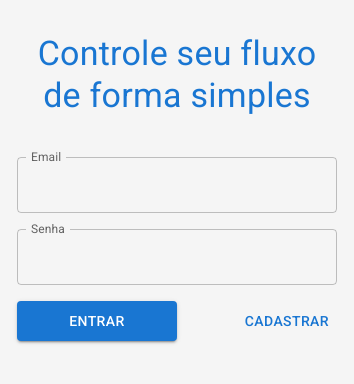
login › should render require login inputs
Click the button "Entrar" at (97, 321), box [17,301,177,341]
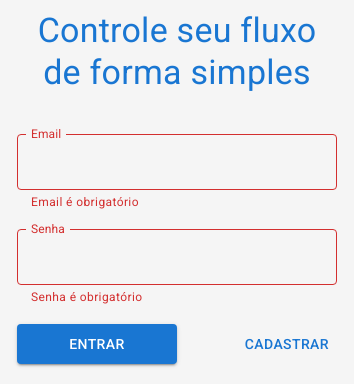
Expected: the text "Email é obrigatório" is shown, [31,195,139,209]
Expected: the text "Senha é obrigatório" is shown, [31,290,142,304]
